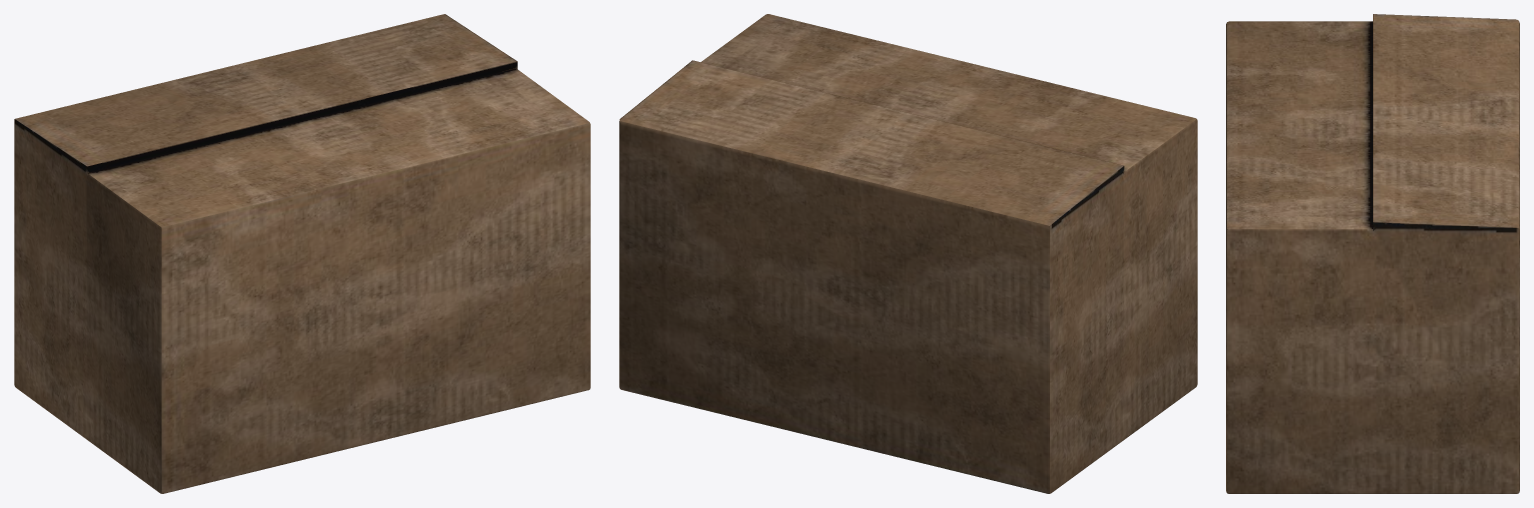
3 views of the same model, side by side, from view 1: azimuth 30°, elevation 25°; view 2: azimuth 150°, elevation 25°; view 3: azimuth 270°, elevation 25° (orthographic).
Visible parts, largest first — view 1: E_BOX; view 2: E_BOX; view 3: E_BOX.
Boxes of the visible parts, bbox=[...] form: E_BOX: bbox=[14, 14, 590, 493]; E_BOX: bbox=[619, 14, 1197, 493]; E_BOX: bbox=[1226, 14, 1519, 493].
Bounding box in the file's own units: 35 × 21.35 × 20.85.
Materials: 1 (1 with a texture image).
